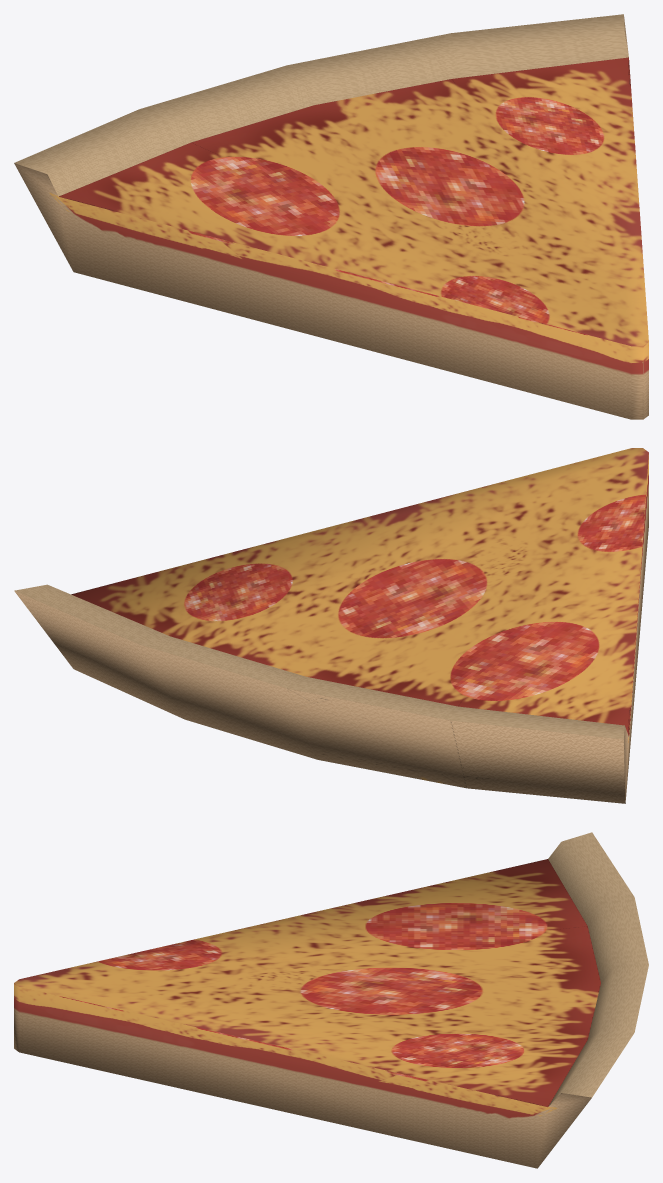
The model's file is WorldItem_PizzaEtnaSlice.fbx.
The picture shows the model from 3 angles, top to bottom: view 1: azimuth 30°, elevation 25°; view 2: azimuth 150°, elevation 25°; view 3: azimuth 270°, elevation 25°; orthographic projection. The views are drawn at different scales.
Parts seen in each view (by area): view 1: Pie_Lemonmeringue001; view 2: Pie_Lemonmeringue001; view 3: Pie_Lemonmeringue001.
Boxes of the visible parts, <box> form: Pie_Lemonmeringue001: <box>14,14,648,419</box>; Pie_Lemonmeringue001: <box>14,448,648,803</box>; Pie_Lemonmeringue001: <box>14,832,648,1168</box>.
Size of the model in its own units: 22.09 by 3.25 by 22.34.
